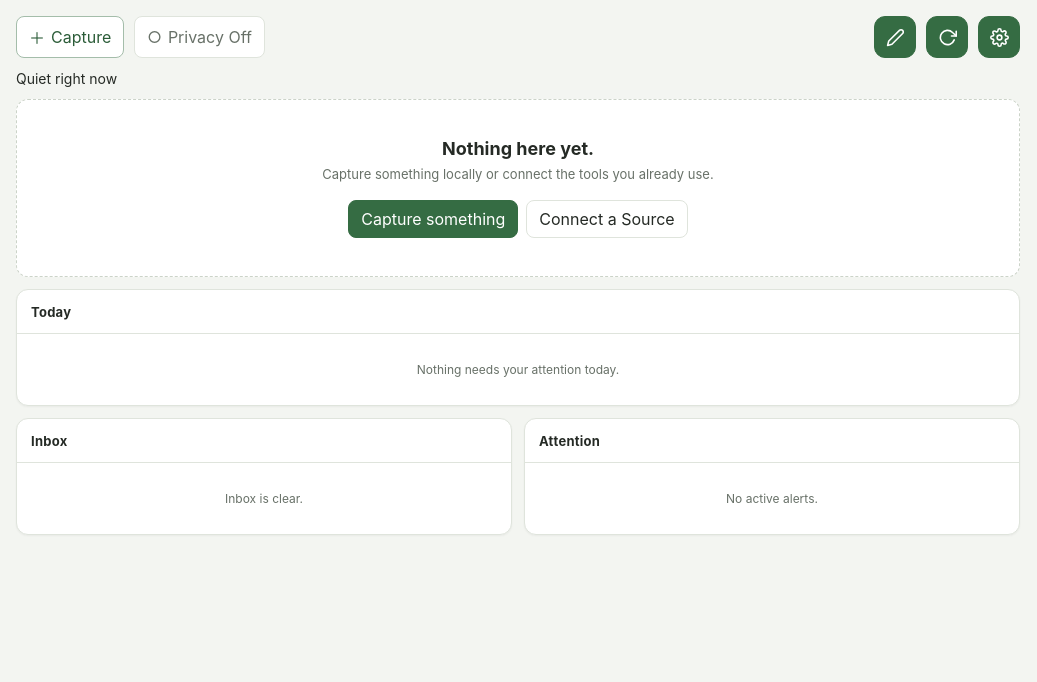
Test: preserves newer layout intent after an older save fails
Step 1. Click the button named "Edit layout" → coordinates (895, 37), box 874,16 -> 916,58
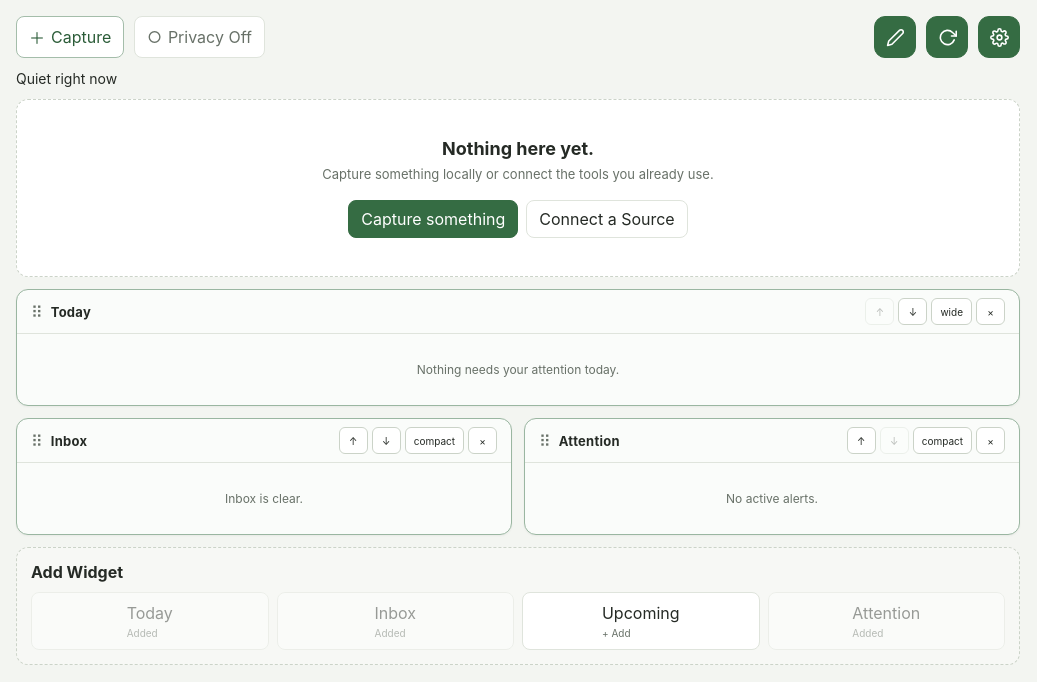
Step 2. Click the button with aria-label "Resize Today" → coordinates (952, 312), box 931,298 -> 972,325
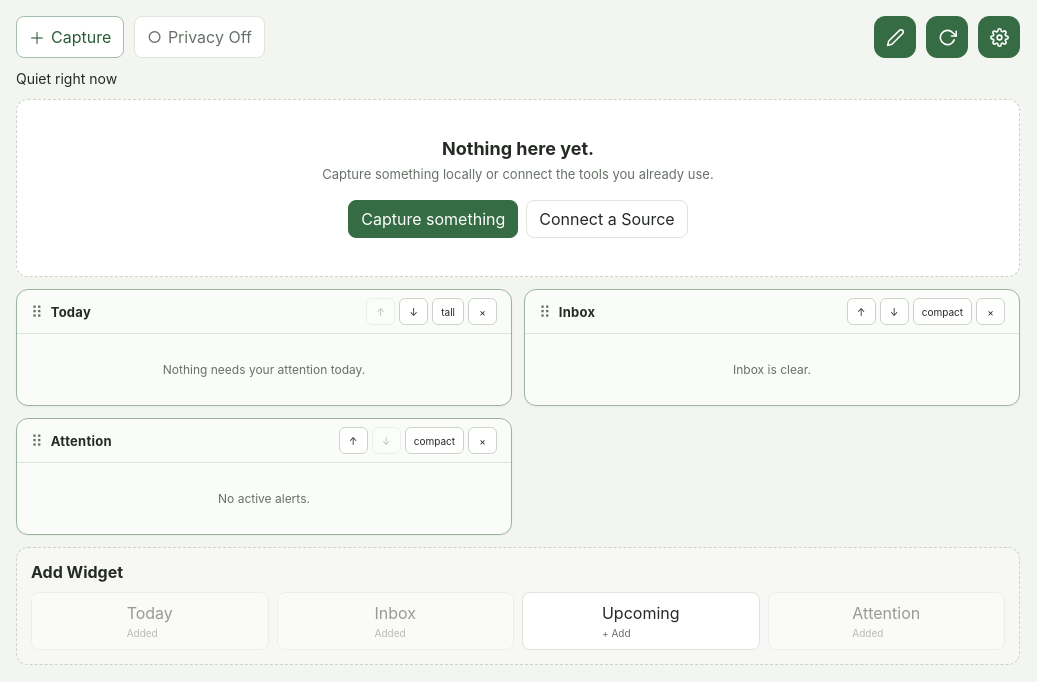
Result: the button with aria-label "Resize Today" reads "tall"
Step 3. Click the button with aria-label "Resize Today" → coordinates (448, 312), box 432,298 -> 464,325
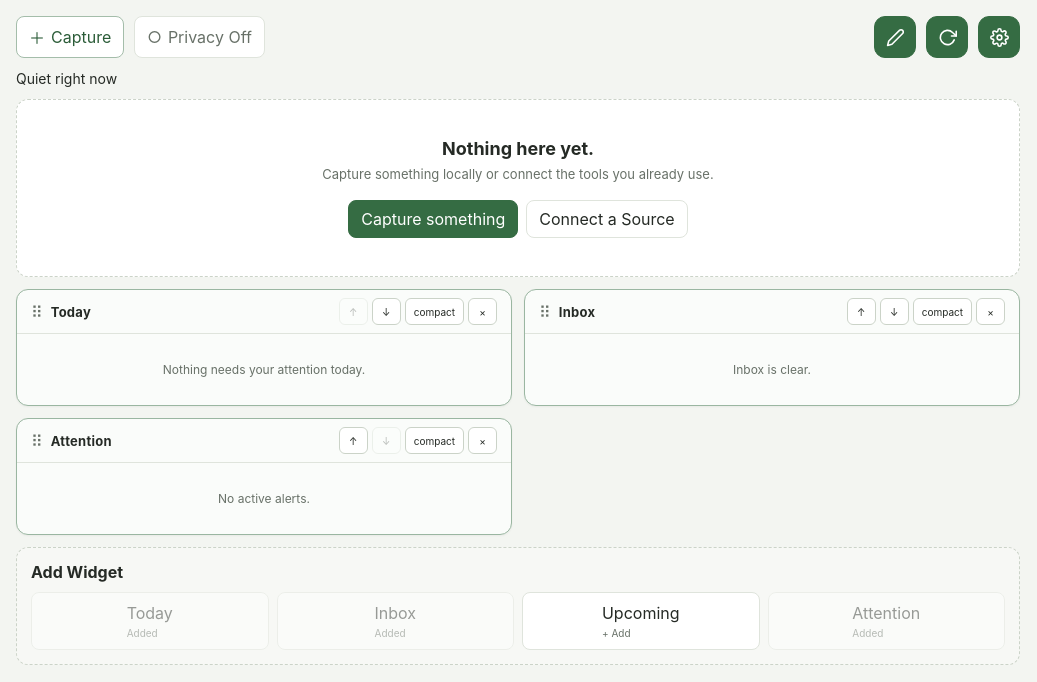
Result: the button with aria-label "Resize Today" reads "compact" at 405,298 -> 464,325
